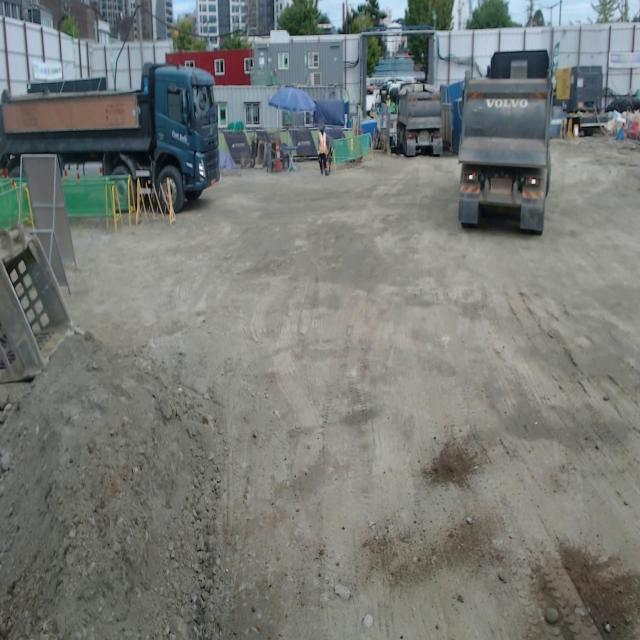white-sand: (69, 141, 640, 639), (0, 339, 232, 639)
